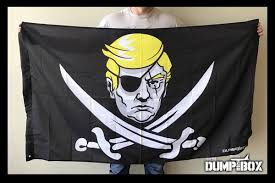Jolly Roger Flag: (15, 18, 259, 164)
